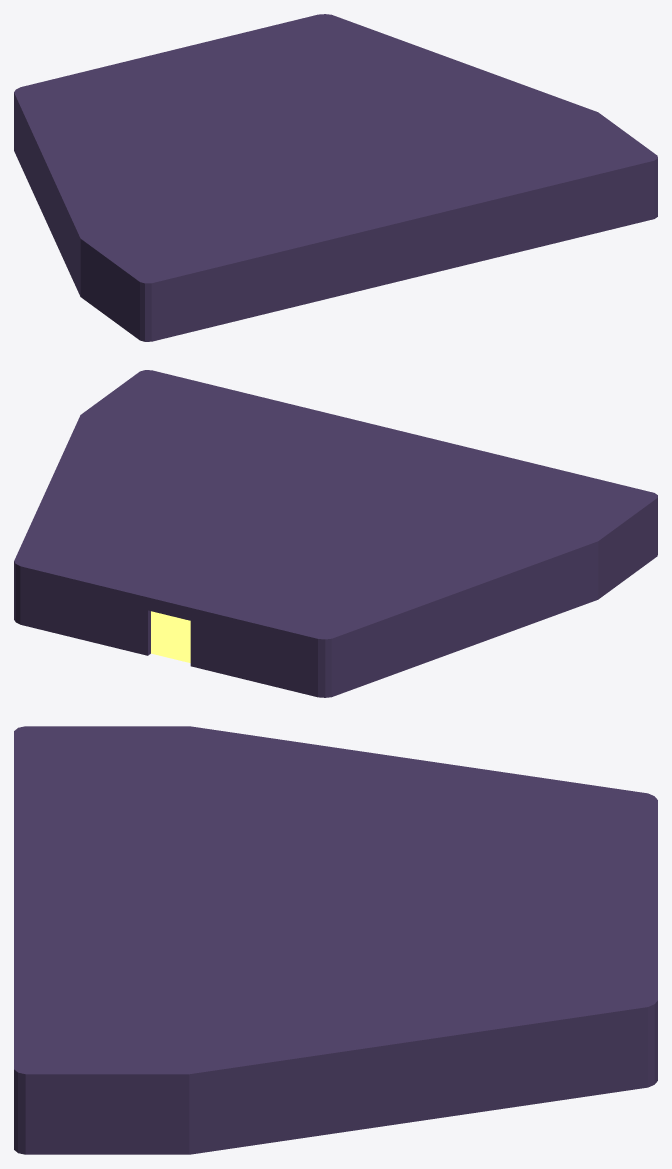
Rendered from GrosBatiment RDC.fbx.
3 renders of one model, top to bottom at view 1: azimuth 30°, elevation 25°; view 2: azimuth 150°, elevation 25°; view 3: azimuth 270°, elevation 25°, orthographic. The views are drawn at different scales.
Visible parts, largest first — view 1: Cube; view 2: Cube; view 3: Cube.
Boxes of the visible parts, x1=… form: Cube: x1=14, y1=14, x2=657, y2=341; Cube: x1=14, y1=370, x2=657, y2=697; Cube: x1=14, y1=726, x2=657, y2=1154.
Bounding box in the file's own units: 996 × 108 × 779.
